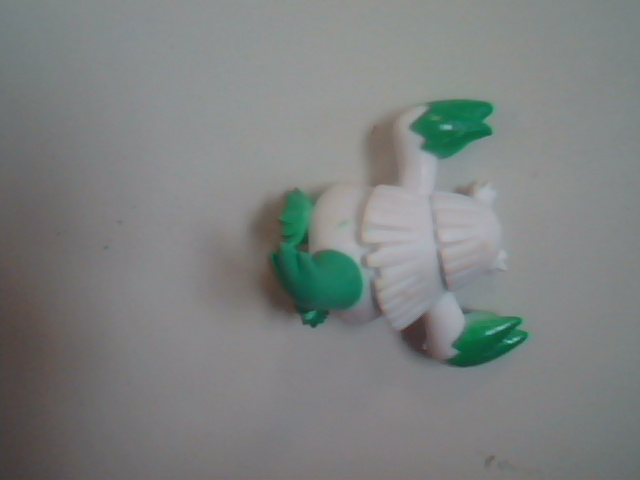abomasnow: (225, 53, 594, 391)
